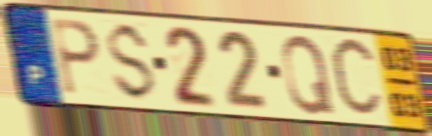2: (163, 23, 218, 111), (220, 28, 272, 114)
C: (327, 33, 385, 123)
P: (49, 16, 103, 100)
Q: (280, 32, 338, 117)
S: (106, 20, 159, 105)
